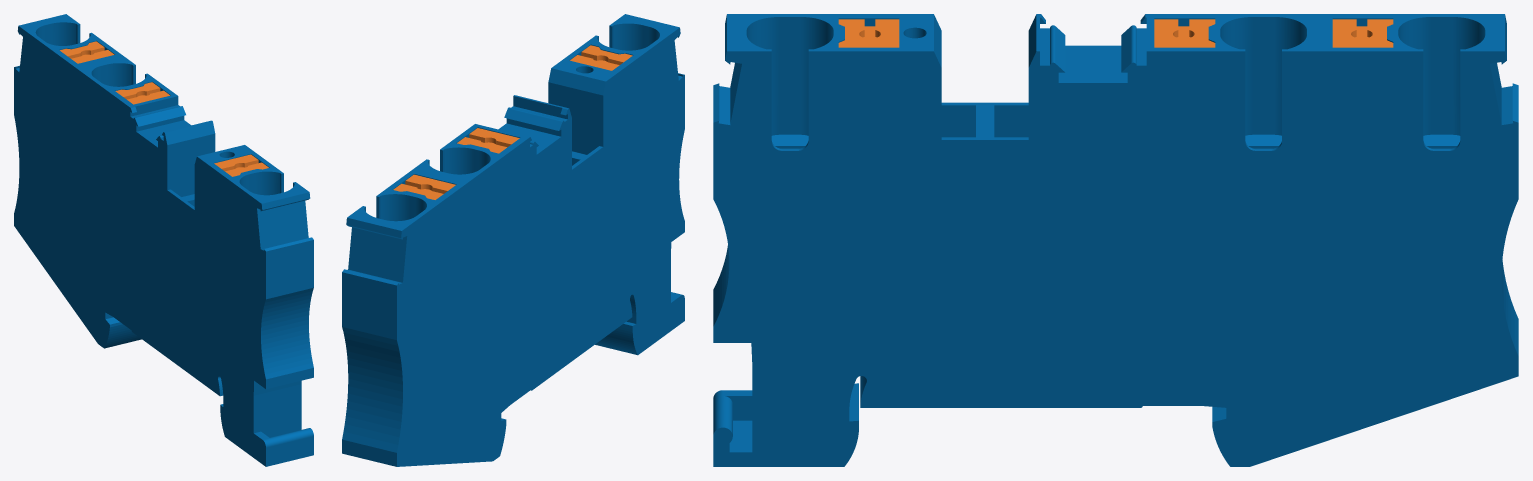
File: PT-6-TWIN-BU.dae
3 renders of one model, left to right at view 1: azimuth 30°, elevation 25°; view 2: azimuth 150°, elevation 25°; view 3: azimuth 270°, elevation 25°, orthographic. The views are drawn at different scales.
Visible parts, largest first — view 1: node_0e874aeb_f723_4cfb_848b_a1677e0cc9d0_mesh0, node_0e874aeb_f723_4cfb_848b_a1677e0cc9d0_mesh1; view 2: node_0e874aeb_f723_4cfb_848b_a1677e0cc9d0_mesh0, node_0e874aeb_f723_4cfb_848b_a1677e0cc9d0_mesh1; view 3: node_0e874aeb_f723_4cfb_848b_a1677e0cc9d0_mesh0, node_0e874aeb_f723_4cfb_848b_a1677e0cc9d0_mesh1.
Boxes of the visible parts, <box> form: node_0e874aeb_f723_4cfb_848b_a1677e0cc9d0_mesh0: <box>14,14,313,466</box>; node_0e874aeb_f723_4cfb_848b_a1677e0cc9d0_mesh1: <box>60,41,268,176</box>; node_0e874aeb_f723_4cfb_848b_a1677e0cc9d0_mesh0: <box>342,14,684,466</box>; node_0e874aeb_f723_4cfb_848b_a1677e0cc9d0_mesh1: <box>393,45,632,199</box>; node_0e874aeb_f723_4cfb_848b_a1677e0cc9d0_mesh0: <box>713,14,1518,466</box>; node_0e874aeb_f723_4cfb_848b_a1677e0cc9d0_mesh1: <box>838,19,1393,47</box>.
Size of the model in its own units: 8.15 by 74.13 by 42.2.
